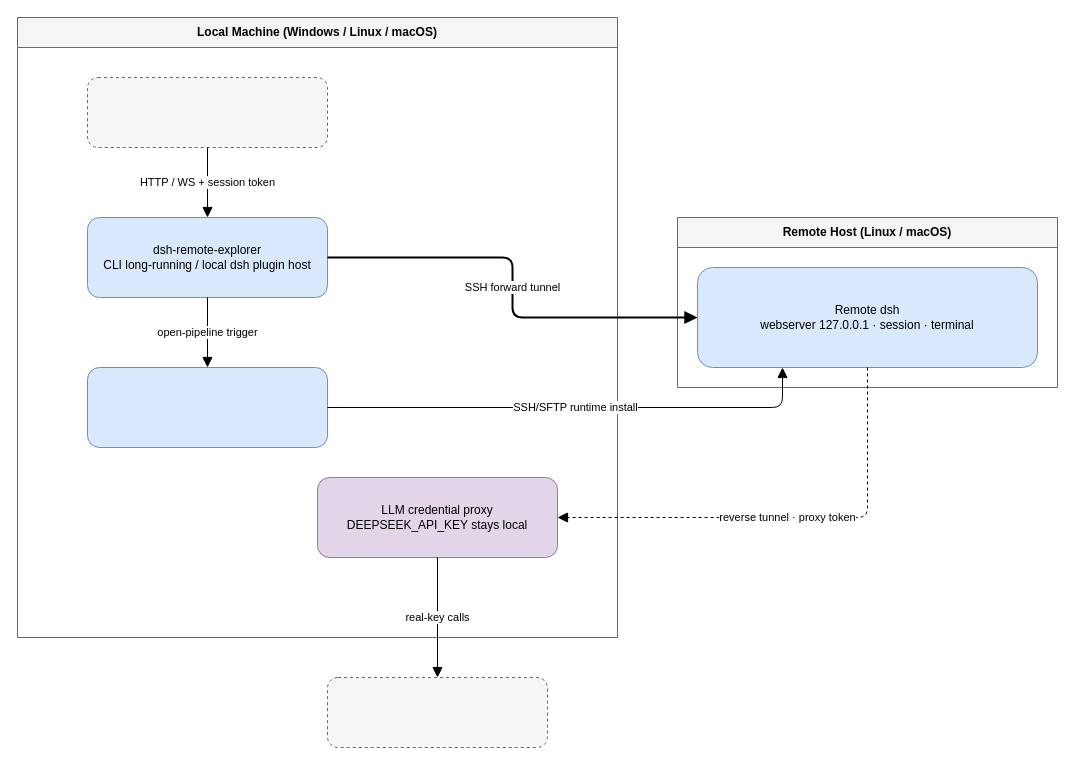
Some shapes in this 1075 by 765 pixel diagram are drawn without their labels. The shapes that lost their labels are listed below. From the top down, each one's centre as x and y in pixels, then its label:
pixel 207 112: Browser 127.0.0.1:local-port
pixel 207 407: Remote provisioning Node · dsh · pnpm · offline suite
pixel 437 712: Real LLM API local direct egress only
